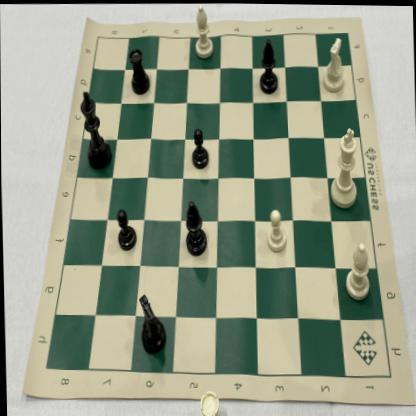black-bishop: (253, 30, 283, 98), (182, 196, 208, 259)
black-king: (75, 84, 115, 172)
black-knight: (131, 290, 168, 359)
black-pawn: (112, 204, 138, 254), (188, 123, 211, 172)
black-rook: (124, 41, 152, 99)
white-bishop: (342, 237, 374, 302), (190, 2, 217, 61)
white-king: (323, 122, 363, 211)
white-knight: (318, 27, 349, 98)
white-pawn: (263, 203, 288, 254)
